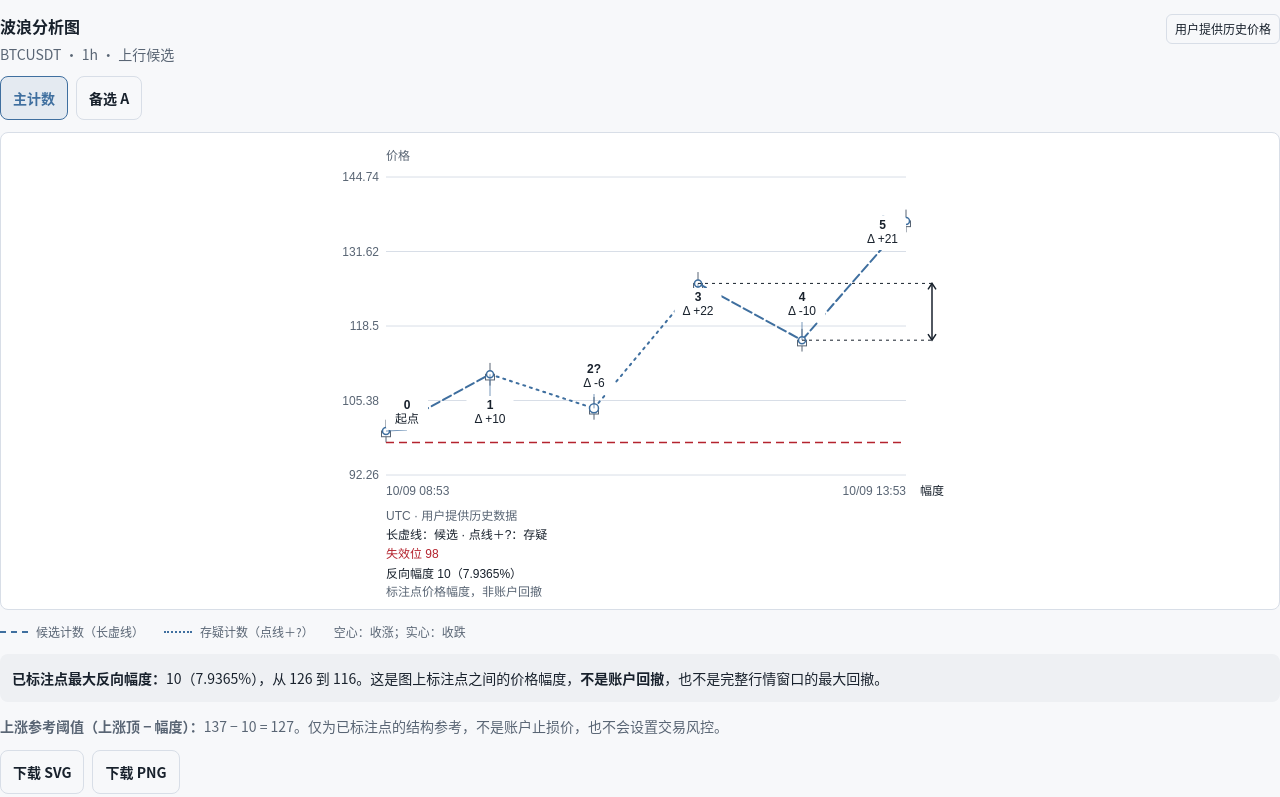
safe browser-only wave image downloads › reports a generic SVG download failure without exposing exception text
Click the button "下载 SVG": click(42, 772) 0,750 -> 84,794
(page scrolled)
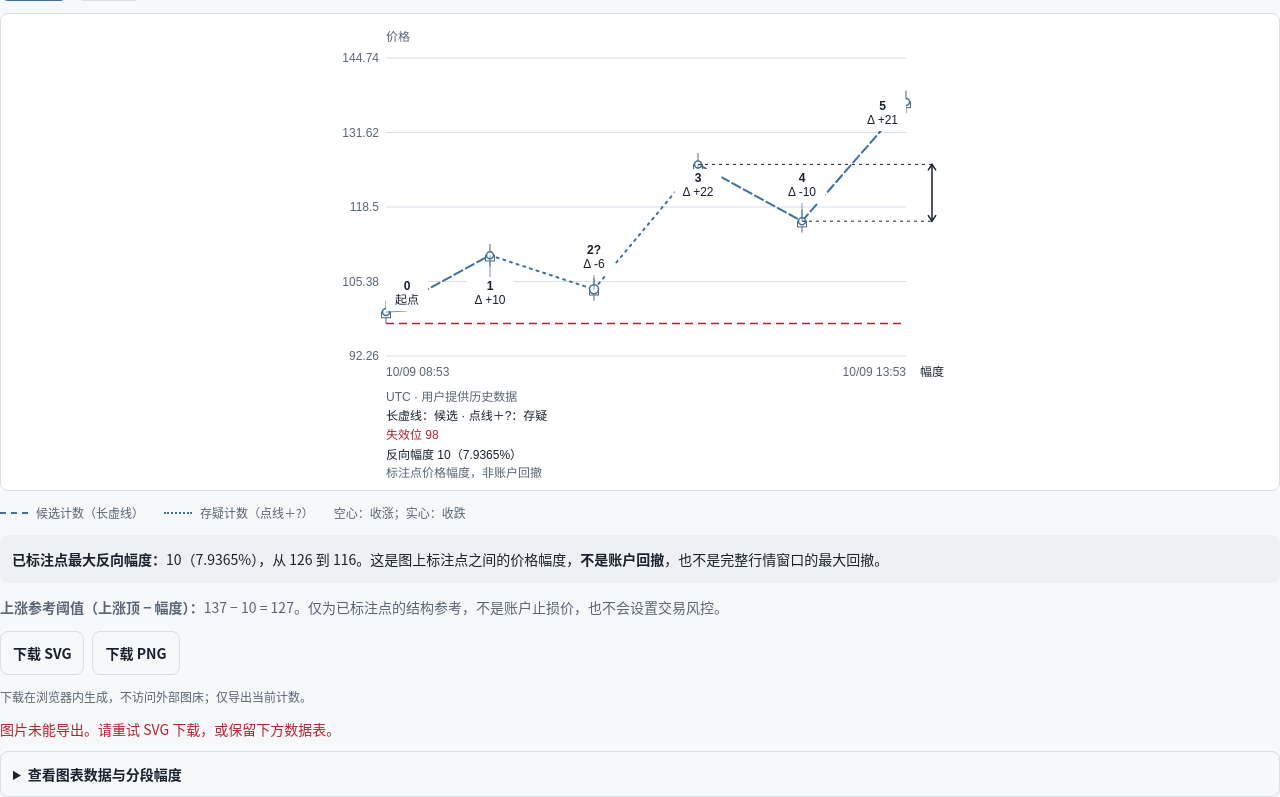
expect the message shows "图片未能导出": met, box 0,719 -> 340,739
